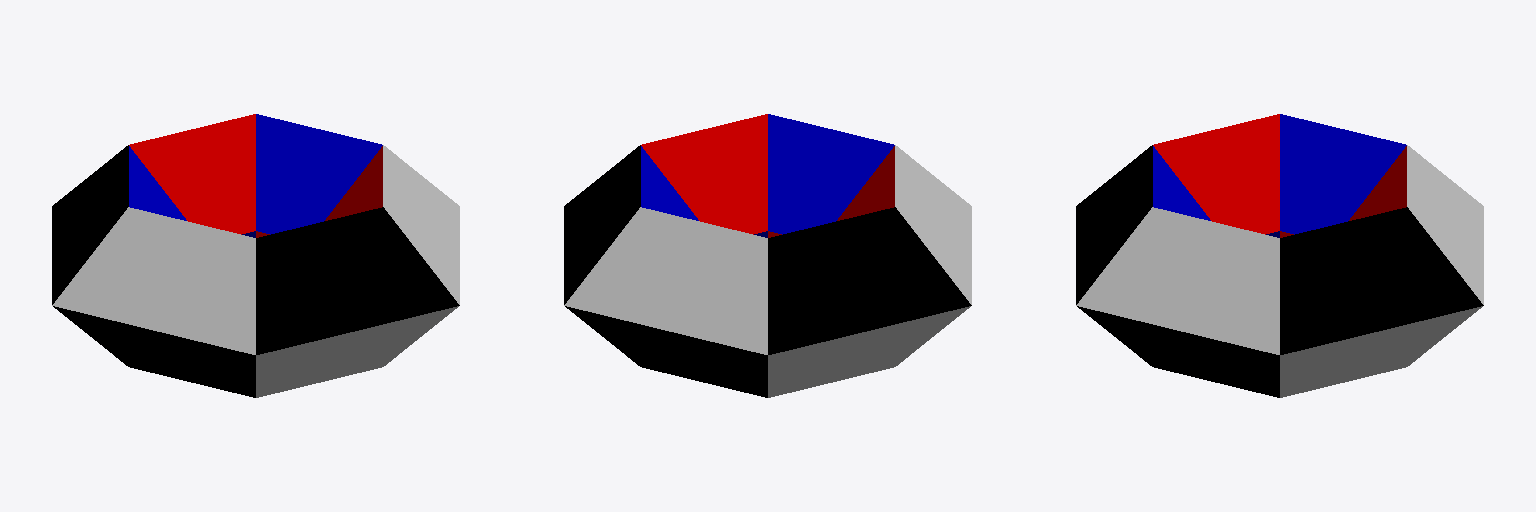
Rendered from explosion_4.obj.
3 views of the same model, side by side, from view 1: azimuth 30°, elevation 25°; view 2: azimuth 150°, elevation 25°; view 3: azimuth 270°, elevation 25° (orthographic).
Parts seen in each view (by area): view 1: Sphere; view 2: Sphere; view 3: Sphere.
Boxes of the visible parts, x1,y1,x2,y2 form: Sphere: [52, 114, 459, 397]; Sphere: [564, 114, 971, 397]; Sphere: [1076, 114, 1483, 397].
Bounding box in the file's own units: 64 × 24 × 55.43.